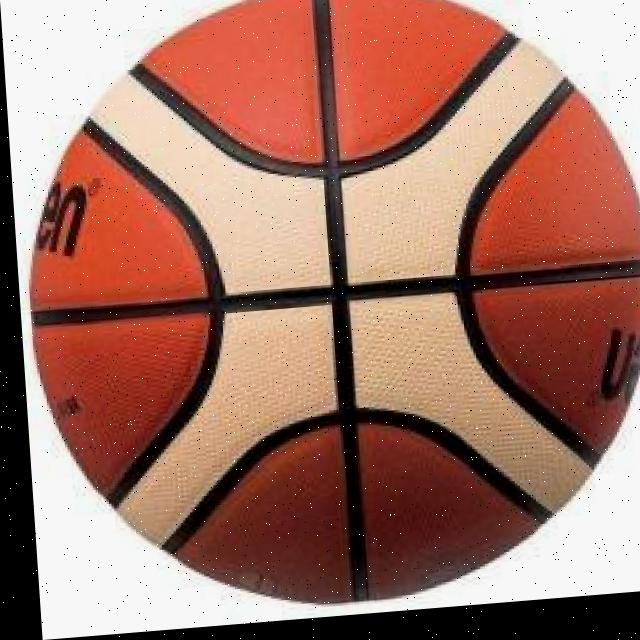Basketball: (13, 0, 640, 626)
